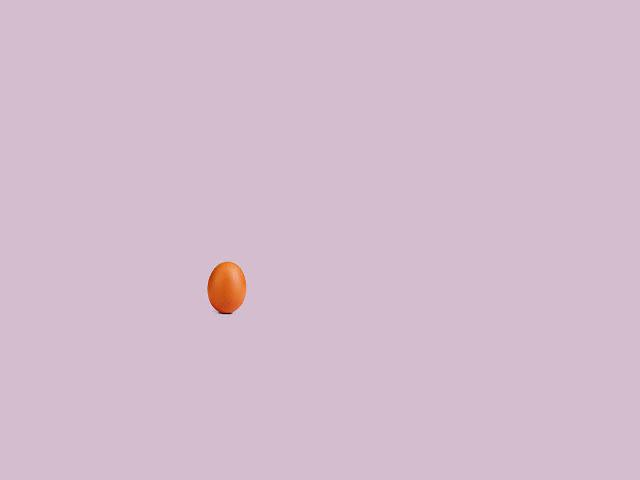egg: (207, 261, 245, 314)
